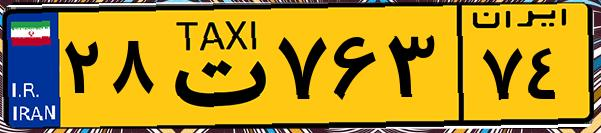2: (57, 26, 110, 100)
3: (385, 28, 445, 110)
4: (525, 38, 570, 115)
6: (330, 28, 385, 110)
7: (270, 28, 330, 110), (475, 38, 525, 113)
8: (110, 28, 158, 98)
ت: (158, 12, 270, 120)
